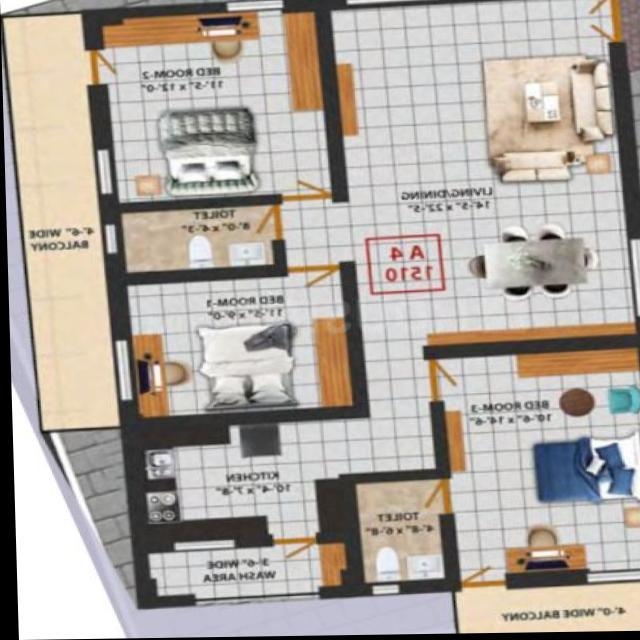Balcony-Sitout: (19, 12, 107, 428), (456, 587, 640, 635)
Bedroom: (99, 15, 326, 197), (129, 277, 344, 413)
Bedroom with Toilet: (345, 346, 640, 592)
Dining: (457, 221, 598, 314)
Enterance-Foyer: (580, 0, 618, 54)
Kitchen: (143, 423, 344, 594)
Living: (342, 0, 622, 215)
Toilet: (116, 210, 272, 271), (359, 480, 447, 582)
